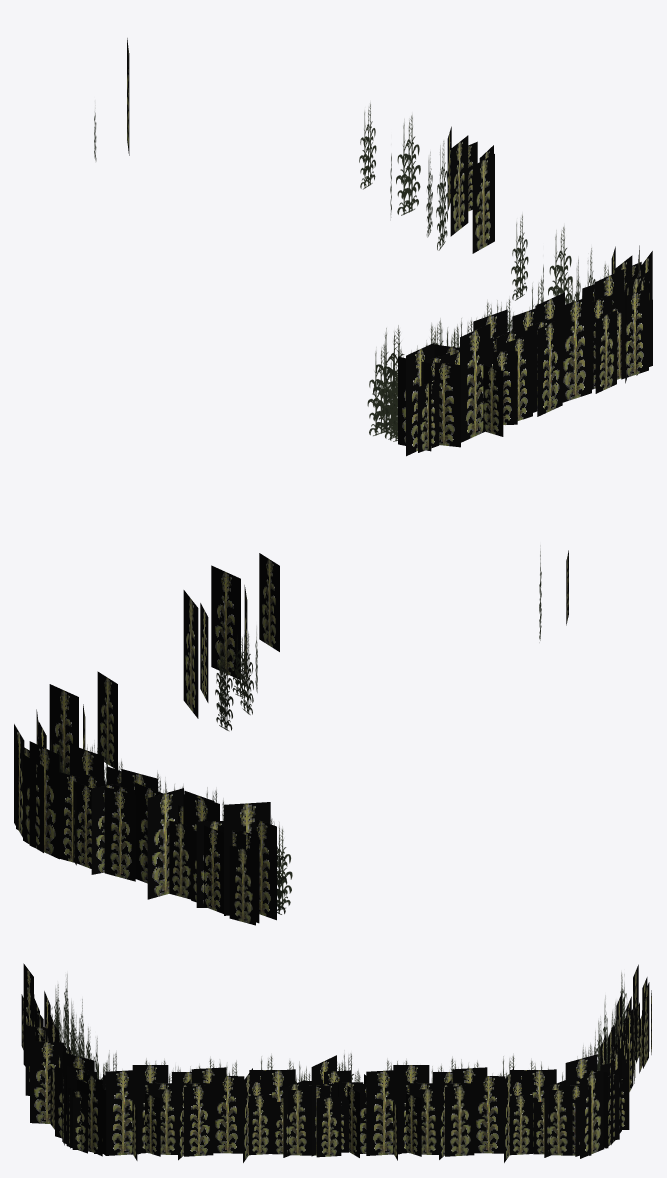
3 renders of one model, top to bottom at view 1: azimuth 30°, elevation 25°; view 2: azimuth 150°, elevation 25°; view 3: azimuth 270°, elevation 25°, orthographic. The views are drawn at different scales.
Parts seen in each view (by area): view 1: body0_model0_lod0_mesh0, body0_model0_lod0_mesh1; view 2: body0_model0_lod0_mesh0, body0_model0_lod0_mesh1; view 3: body0_model0_lod0_mesh0, body0_model0_lod0_mesh1.
Boxes of the visible parts, x1,y1,x2,y2 form: body0_model0_lod0_mesh0: [127, 38, 652, 456]; body0_model0_lod0_mesh1: [94, 103, 614, 441]; body0_model0_lod0_mesh0: [14, 550, 568, 925]; body0_model0_lod0_mesh1: [51, 550, 541, 914]; body0_model0_lod0_mesh0: [21, 963, 651, 1162]; body0_model0_lod0_mesh1: [51, 972, 627, 1083].
Bounding box in the file's own units: 643 × 217 × 1385.
2 materials, 2 textured.
